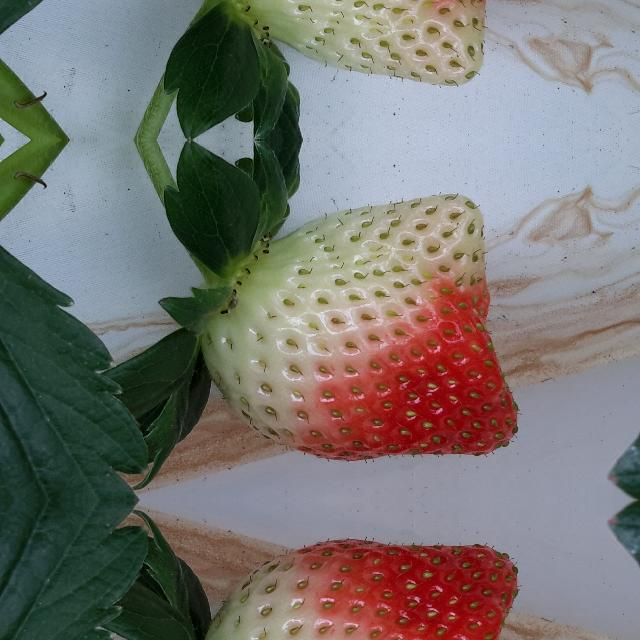Health_50: (200, 192, 518, 460), (200, 540, 518, 640), (200, 0, 518, 87)
